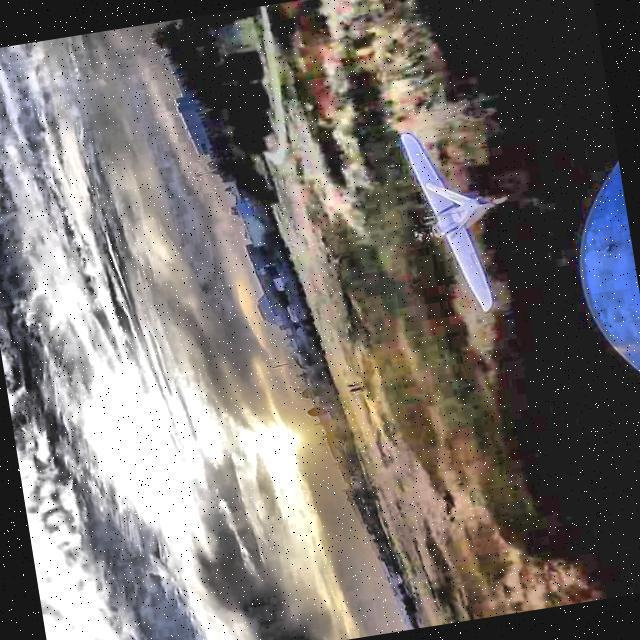iha: (382, 110, 515, 331)
